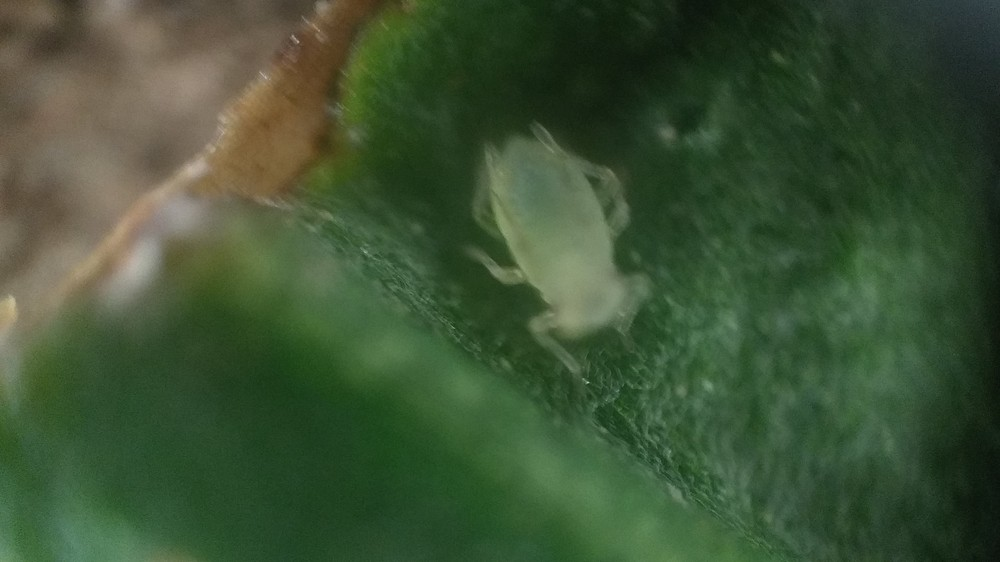Pulgon: (442, 118, 701, 405)
